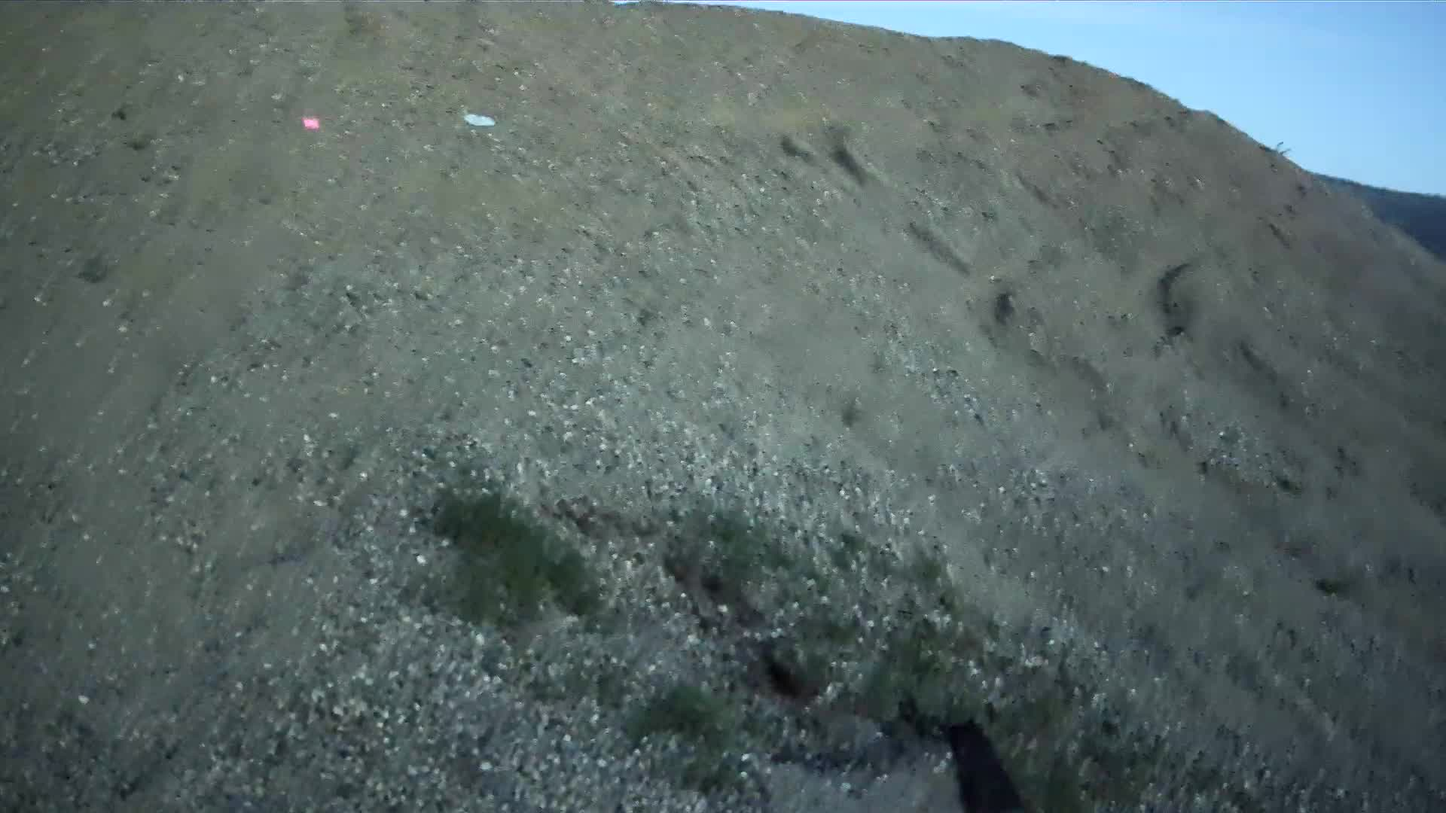Target: (463, 114, 495, 127)
